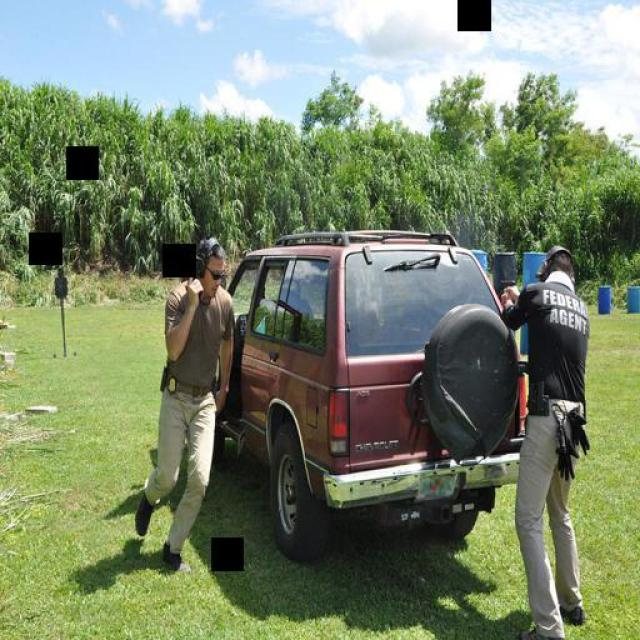gun: (179, 215, 210, 287), (490, 272, 515, 298)
